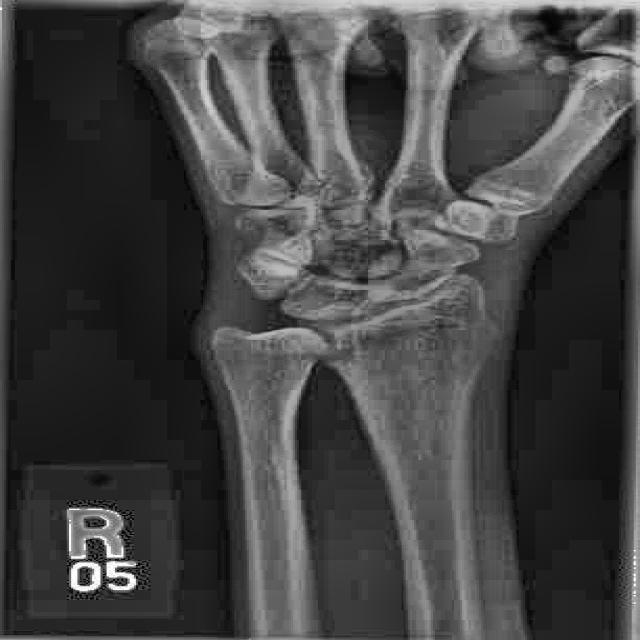wrist positive: (249, 305, 517, 382)
